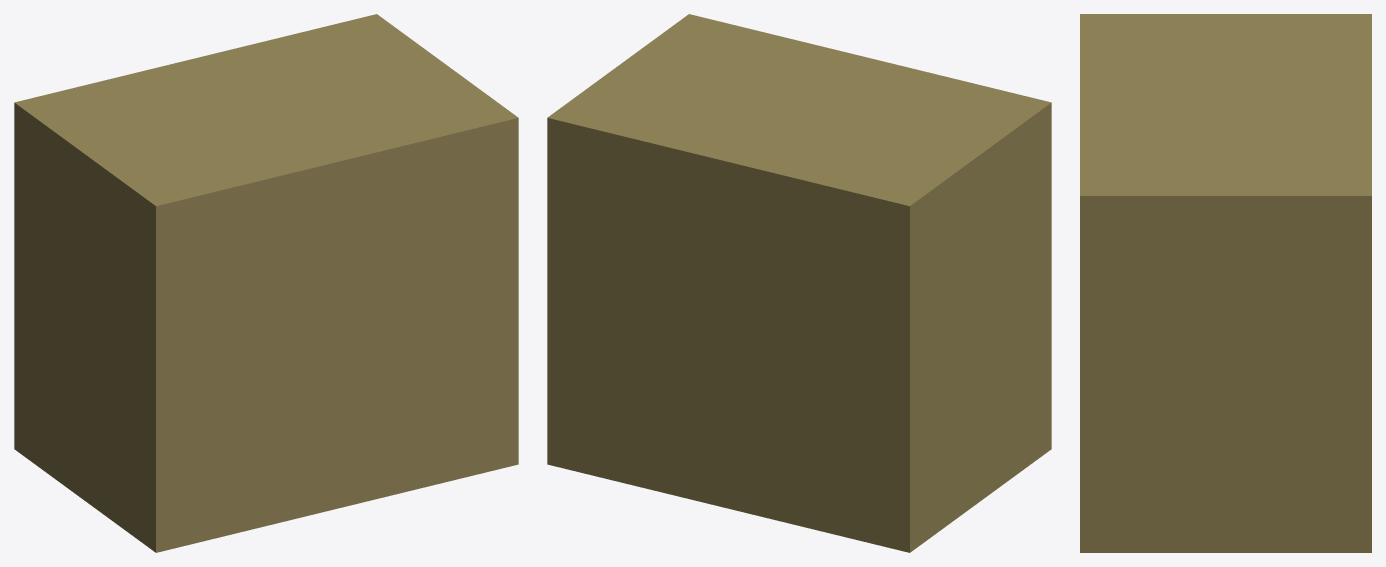
File: prop_market_stall_lod2.glb
3 renders of one model, left to right at view 1: azimuth 30°, elevation 25°; view 2: azimuth 150°, elevation 25°; view 3: azimuth 270°, elevation 25°, orthographic. The views are drawn at different scales.
Parts seen in each view (by area): view 1: prop_market_stall_lod2; view 2: prop_market_stall_lod2; view 3: prop_market_stall_lod2.
Part boxes in pixels (left/top/right/bottom): prop_market_stall_lod2: left=14, top=14, right=518, bottom=552; prop_market_stall_lod2: left=547, top=14, right=1051, bottom=552; prop_market_stall_lod2: left=1080, top=14, right=1371, bottom=552.
Bounding box in the file's own units: 2.2 × 2.01 × 1.49.
